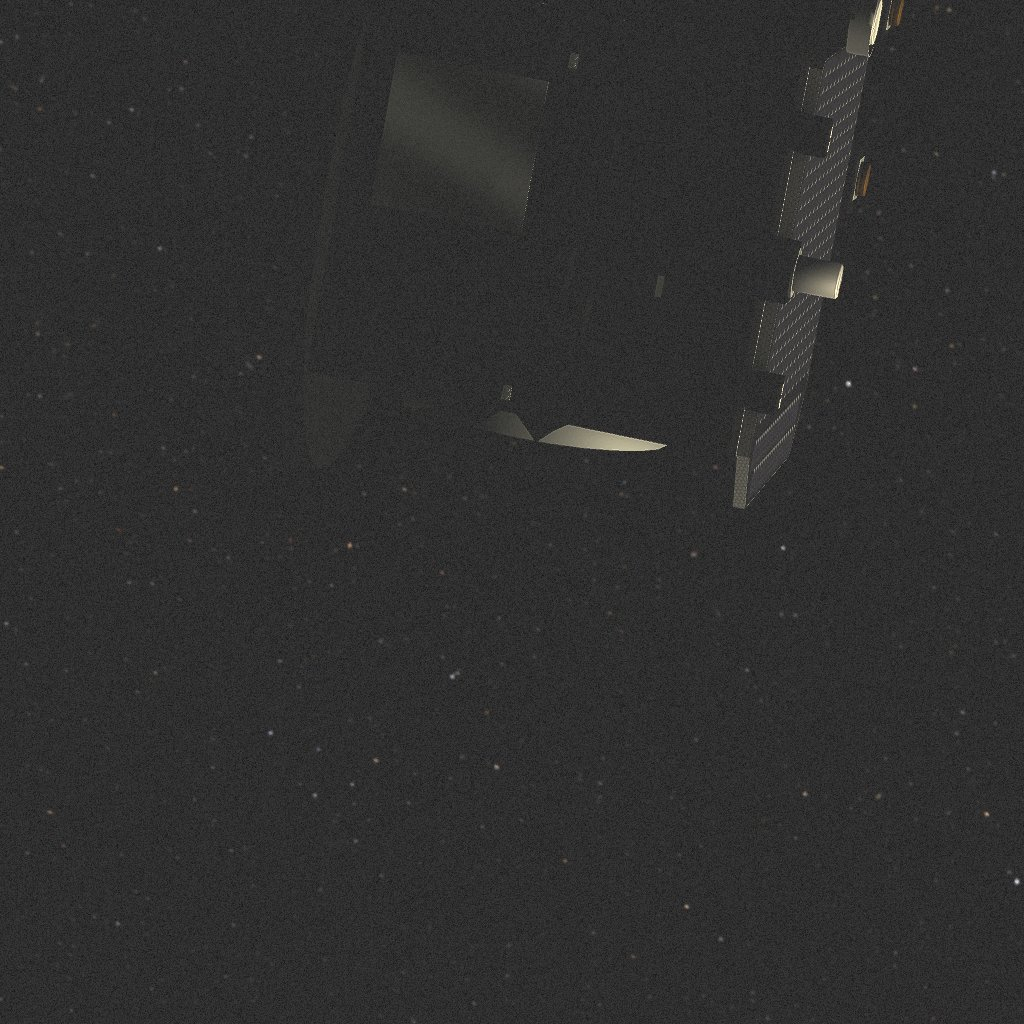proba_3_ocs: (299, 16, 887, 493)
